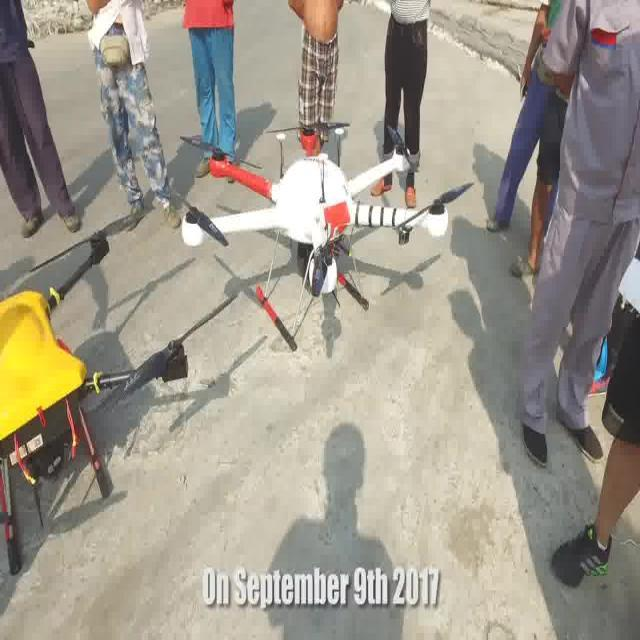drone: (173, 121, 462, 346)
